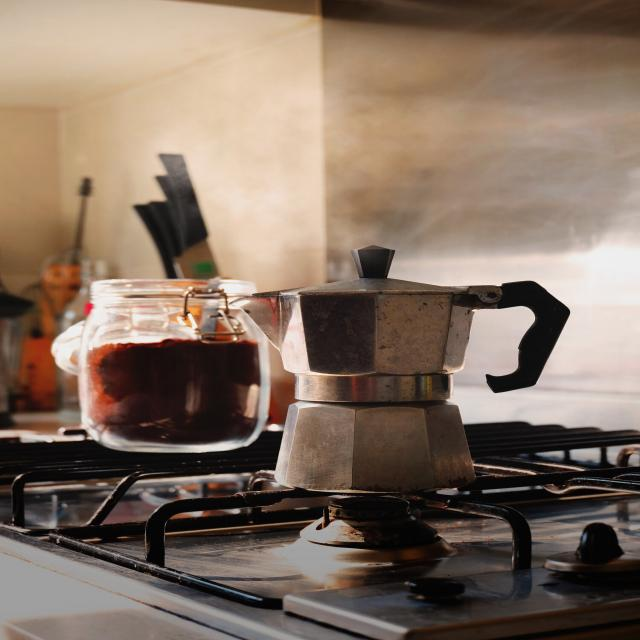a glass: (81, 270, 262, 461)
jug: (245, 264, 536, 508)
